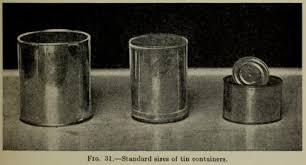Tin: (12, 19, 293, 134)
